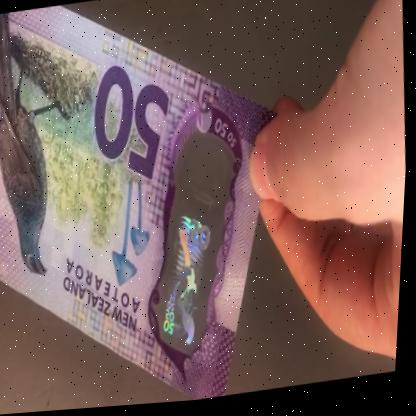50B: (150, 138, 230, 354)
